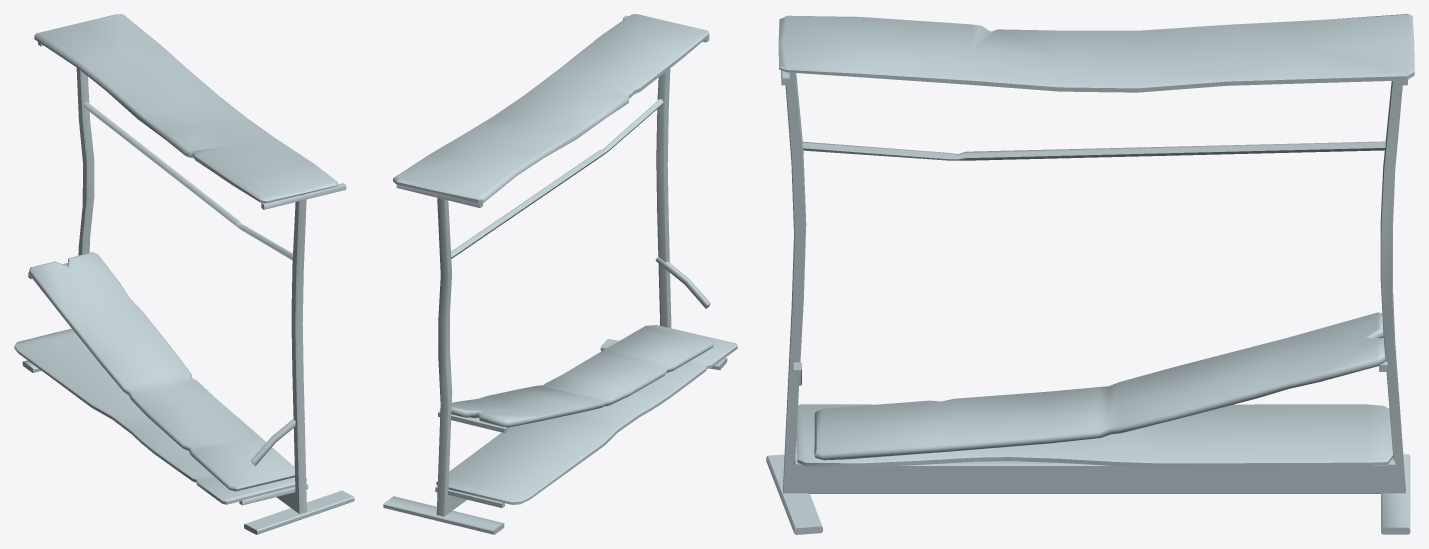
Rendered from shelvesbroken1.fbx.
3 views of the same model, side by side, from view 1: azimuth 30°, elevation 25°; view 2: azimuth 150°, elevation 25°; view 3: azimuth 270°, elevation 25° (orthographic). The views are drawn at different scales.
Parts seen in each view (by area): view 1: mex_shop_shelves_1; view 2: mex_shop_shelves_1; view 3: mex_shop_shelves_1.
Part boxes in pixels (x1,y1,x2,y2): mex_shop_shelves_1: (14,14,354,534); mex_shop_shelves_1: (383,14,737,534); mex_shop_shelves_1: (766,14,1414,534).
Size of the model in its own units: 75 by 182 by 234.
